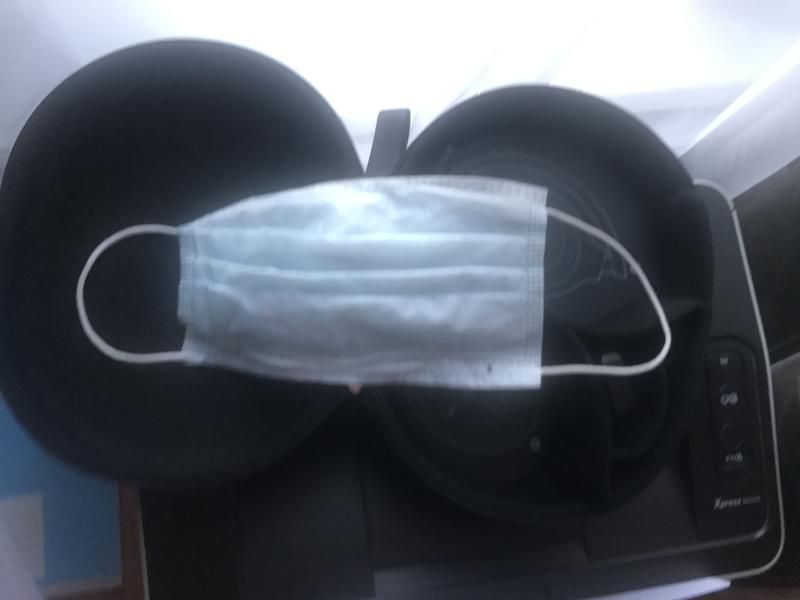medical_mask: (75, 177, 671, 391)
